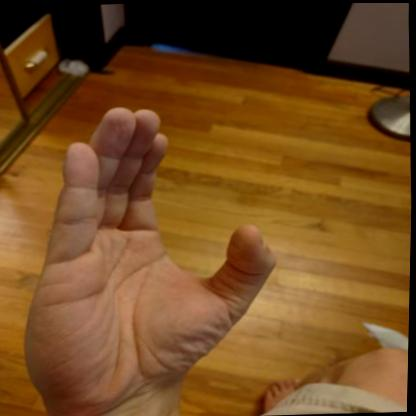C: (10, 95, 289, 416)
